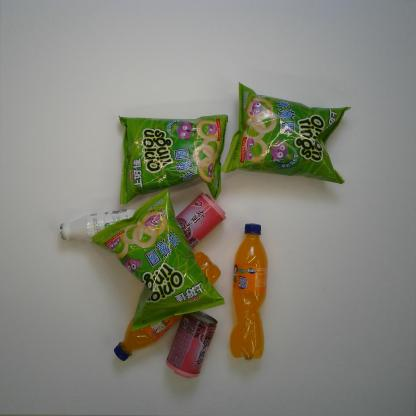Canned Food: (158, 192, 228, 259), (164, 309, 218, 381)
Drink: (113, 250, 222, 362), (226, 221, 270, 360)
Milk: (55, 206, 141, 243)
Puffed Food: (90, 187, 226, 335), (219, 81, 351, 186), (114, 113, 230, 206)
